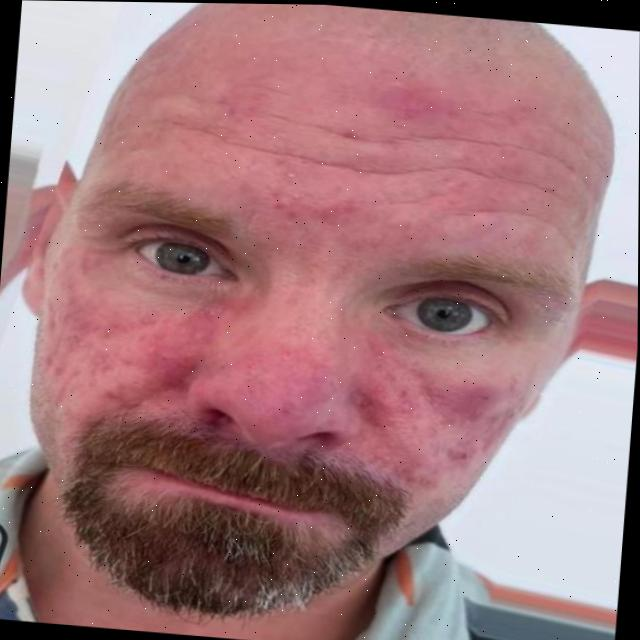Rosacea: (61, 261, 213, 419), (370, 367, 533, 477), (235, 333, 352, 431), (365, 65, 452, 130), (278, 186, 364, 246)
